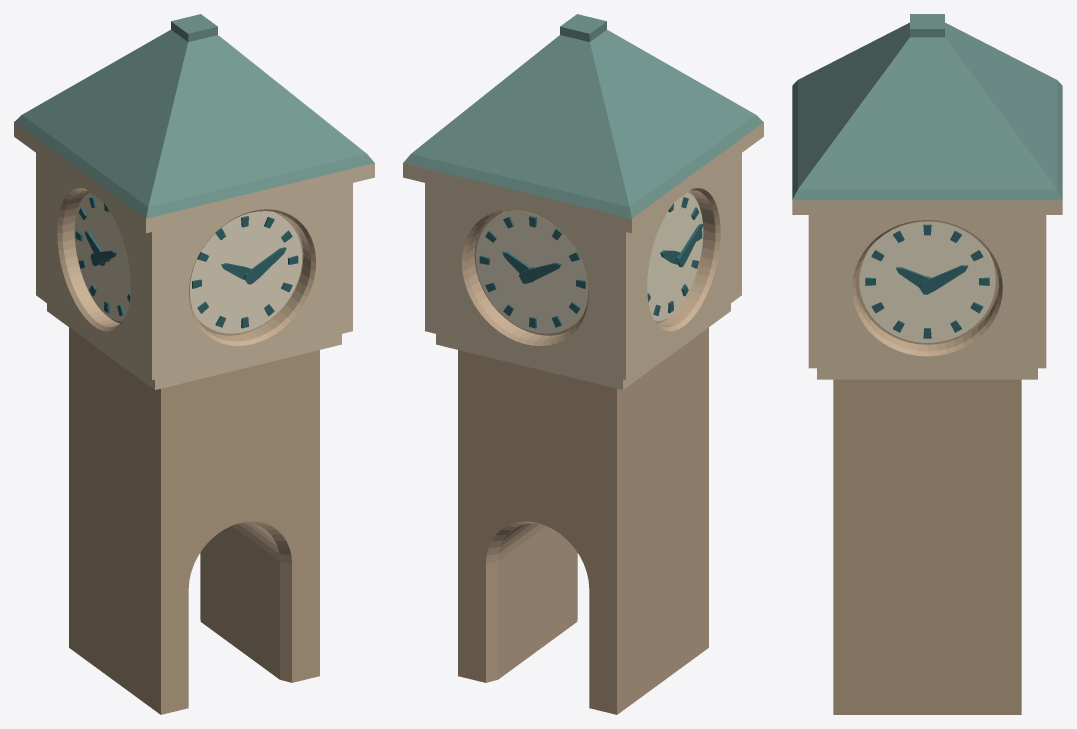
The picture shows the model from 3 angles, left to right: view 1: azimuth 30°, elevation 25°; view 2: azimuth 150°, elevation 25°; view 3: azimuth 270°, elevation 25°; orthographic projection. The views are drawn at different scales.
Visible parts, largest first — view 1: Tower_ContinuousSquareThroughArch, Roof_ThickFourHipAndEaves, ClockBox_FourActualBlindRecesses, Front_IntegralIndexDial, Left_IntegralIndexDial, Tower_SteppedSquareShoulder; view 2: Tower_ContinuousSquareThroughArch, Roof_ThickFourHipAndEaves, ClockBox_FourActualBlindRecesses, Back_IntegralIndexDial, Left_IntegralIndexDial, Tower_SteppedSquareShoulder; view 3: Tower_ContinuousSquareThroughArch, Roof_ThickFourHipAndEaves, ClockBox_FourActualBlindRecesses, Right_IntegralIndexDial, Tower_SteppedSquareShoulder, Right_FixedMinuteHand.
Part boxes in pixels (x1,y1,x2,y2): Tower_ContinuousSquareThroughArch: (69, 327, 319, 714); Roof_ThickFourHipAndEaves: (14, 14, 374, 233); ClockBox_FourActualBlindRecesses: (36, 153, 352, 379); Front_IntegralIndexDial: (190, 211, 301, 333); Left_IntegralIndexDial: (74, 192, 130, 321); Tower_SteppedSquareShoulder: (47, 303, 341, 389); Tower_ContinuousSquareThroughArch: (458, 327, 708, 714); Roof_ThickFourHipAndEaves: (403, 14, 763, 233); ClockBox_FourActualBlindRecesses: (425, 153, 741, 379); Back_IntegralIndexDial: (476, 211, 587, 333); Left_IntegralIndexDial: (647, 192, 703, 321); Tower_SteppedSquareShoulder: (436, 303, 730, 389); Tower_ContinuousSquareThroughArch: (833, 379, 1021, 714); Roof_ThickFourHipAndEaves: (792, 14, 1062, 214); ClockBox_FourActualBlindRecesses: (808, 215, 1046, 368); Right_IntegralIndexDial: (859, 221, 995, 342); Tower_SteppedSquareShoulder: (817, 368, 1037, 379); Right_FixedMinuteHand: (919, 265, 968, 294).
Bounding box in the file's own units: 2.3 × 6.13 × 2.3.
